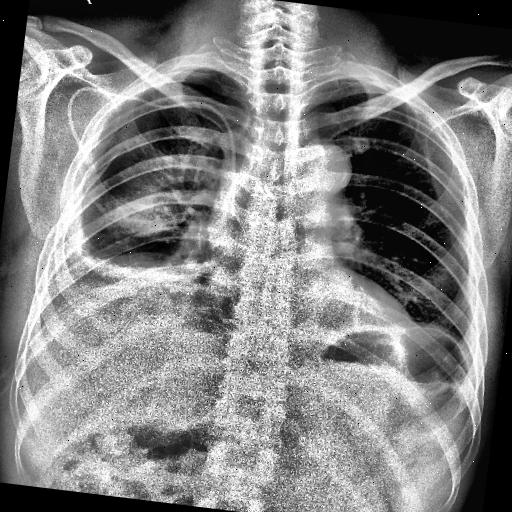0- Aortic enlargement: (285, 138, 357, 198), (292, 138, 354, 190)
10- Pleural effusion: (29, 172, 230, 358), (30, 204, 202, 358), (46, 212, 180, 325)
4- Consolidation: (108, 136, 212, 248)
7- Lung Opacity: (83, 113, 244, 325), (81, 102, 217, 273), (108, 136, 212, 248), (84, 244, 202, 290)
